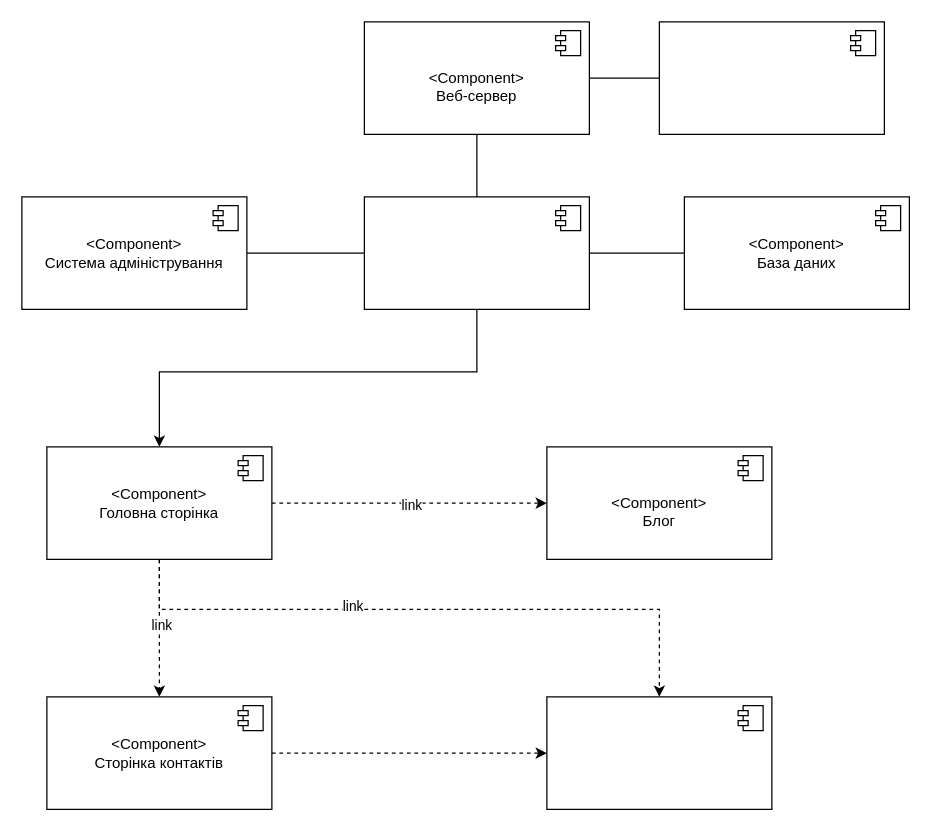
This 931x831 diagram has some shape labels left out. The shapes that lost their labels are listed below. From the top down, each one's centre as x and y in pixels, then its label:
point 771,77: <Component> Сервер кешу
point 476,252: <Component> Балансувальник навантаження
point 659,752: <Component> Сторінка про нас
